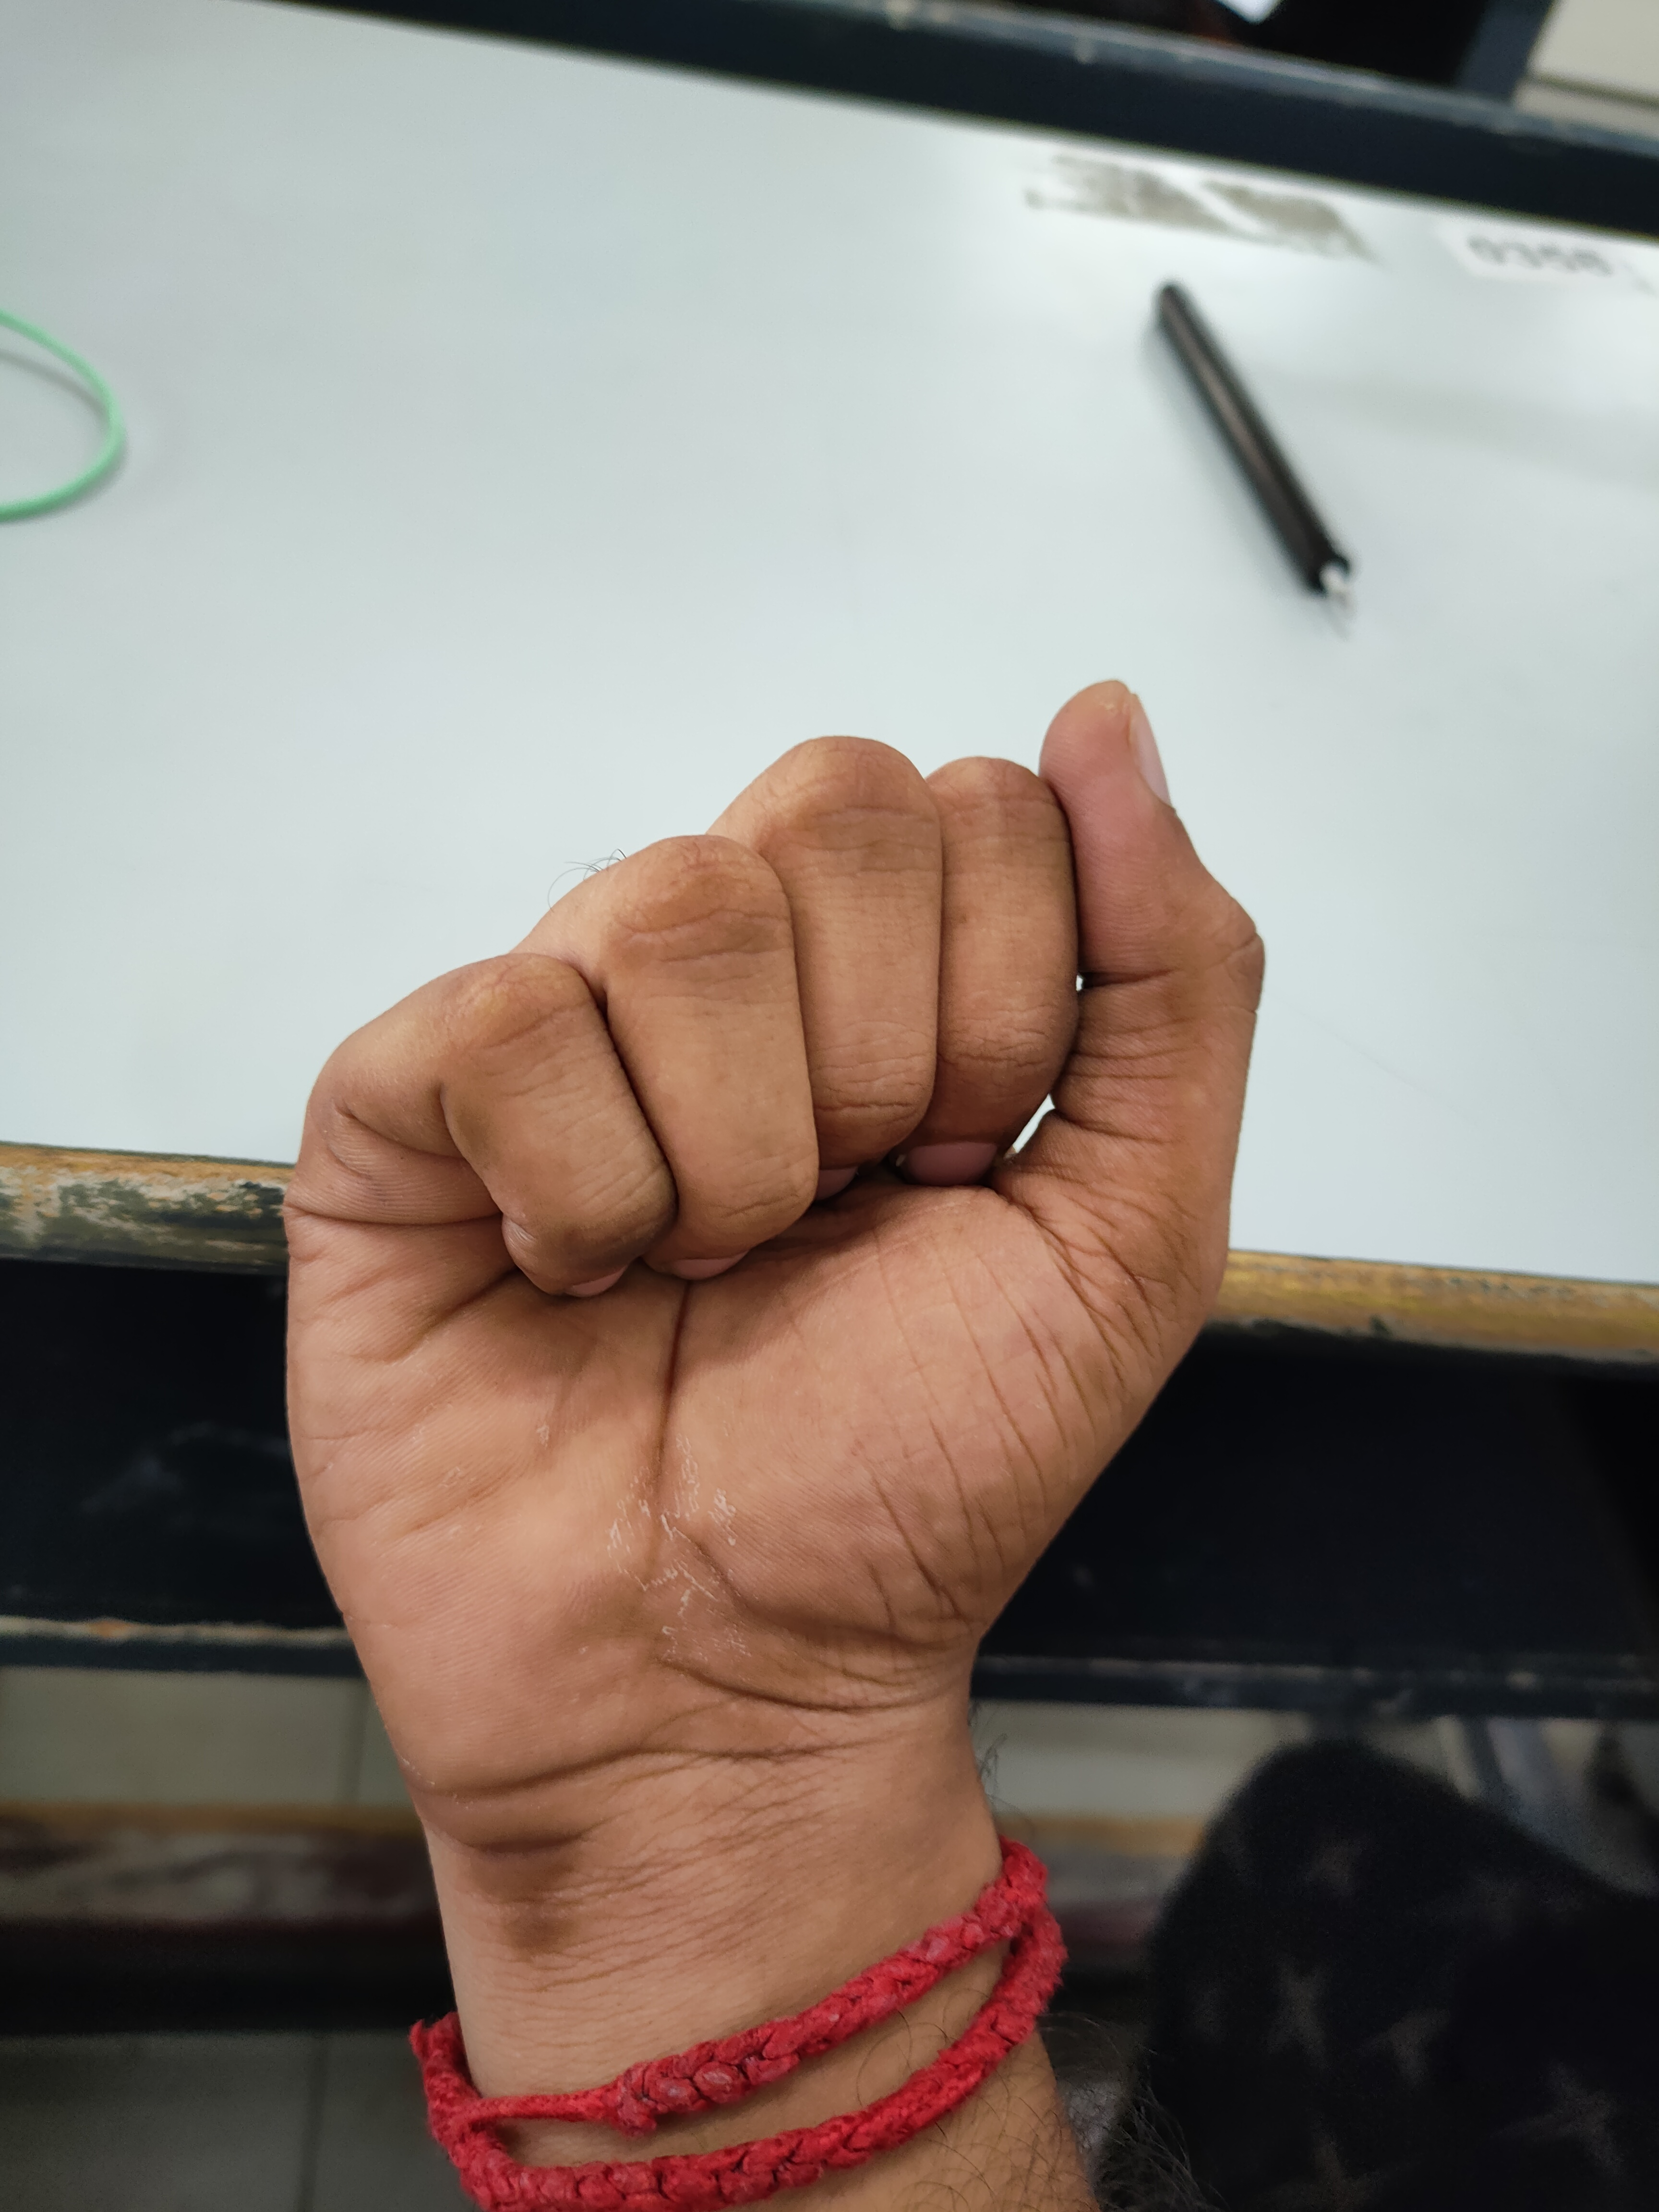A: (267, 683, 1281, 1810)
